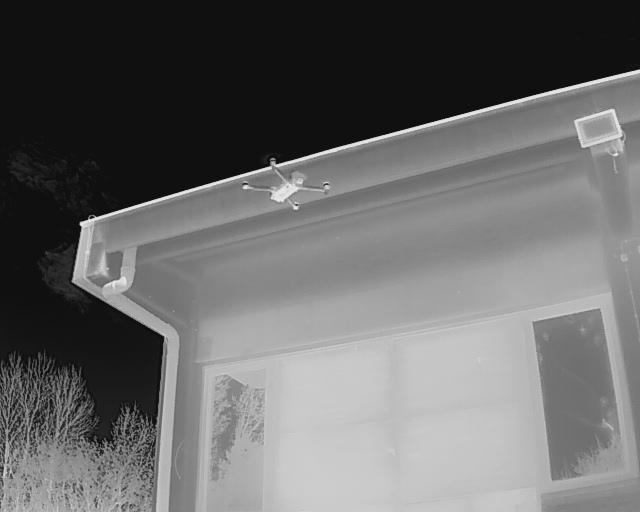drone: (232, 156, 334, 230)
